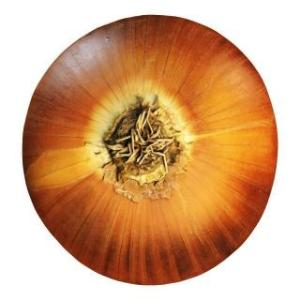onion: (22, 10, 282, 292)
